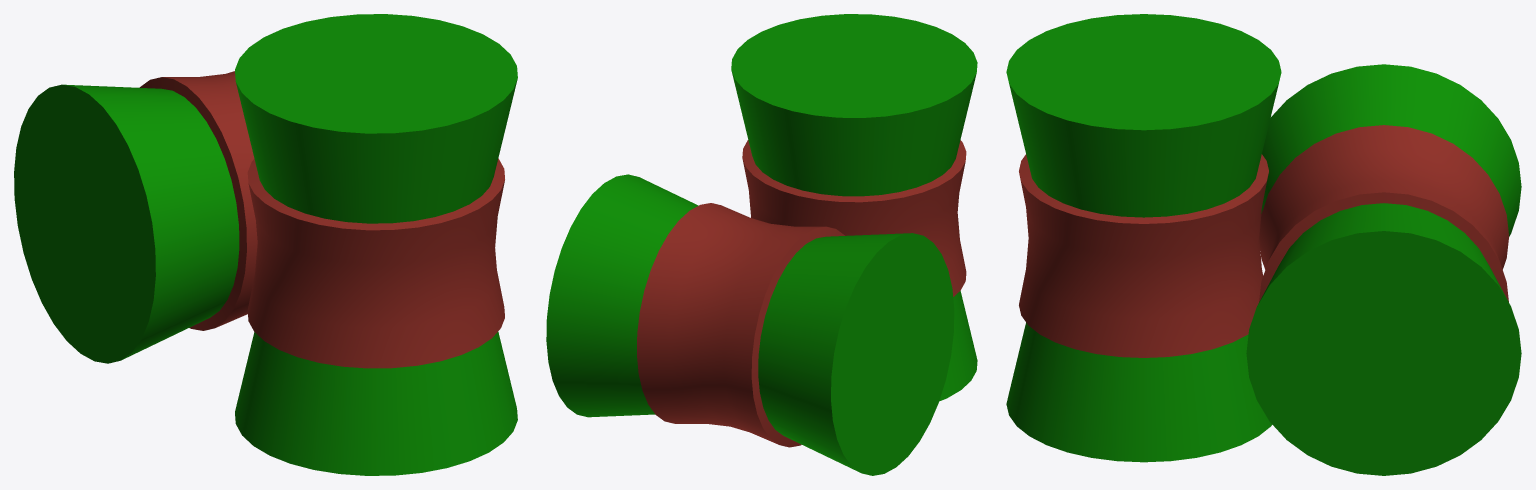
File: Bandage.fbx
3 views of the same model, side by side, from view 1: azimuth 30°, elevation 25°; view 2: azimuth 150°, elevation 25°; view 3: azimuth 270°, elevation 25° (orthographic). The views are drawn at different scales.
Visible parts, largest first — view 1: Cylinder, Cylinder.001; view 2: Cylinder.001, Cylinder; view 3: Cylinder, Cylinder.001.
Part boxes in pixels (x1,y1,x2,y2): Cylinder: (235, 14, 517, 475); Cylinder.001: (14, 71, 257, 363); Cylinder.001: (546, 174, 954, 475); Cylinder: (731, 14, 977, 401); Cylinder: (1006, 14, 1281, 462); Cylinder.001: (1246, 64, 1521, 475).
Bounding box in the file's own units: 195 × 190 × 266.
